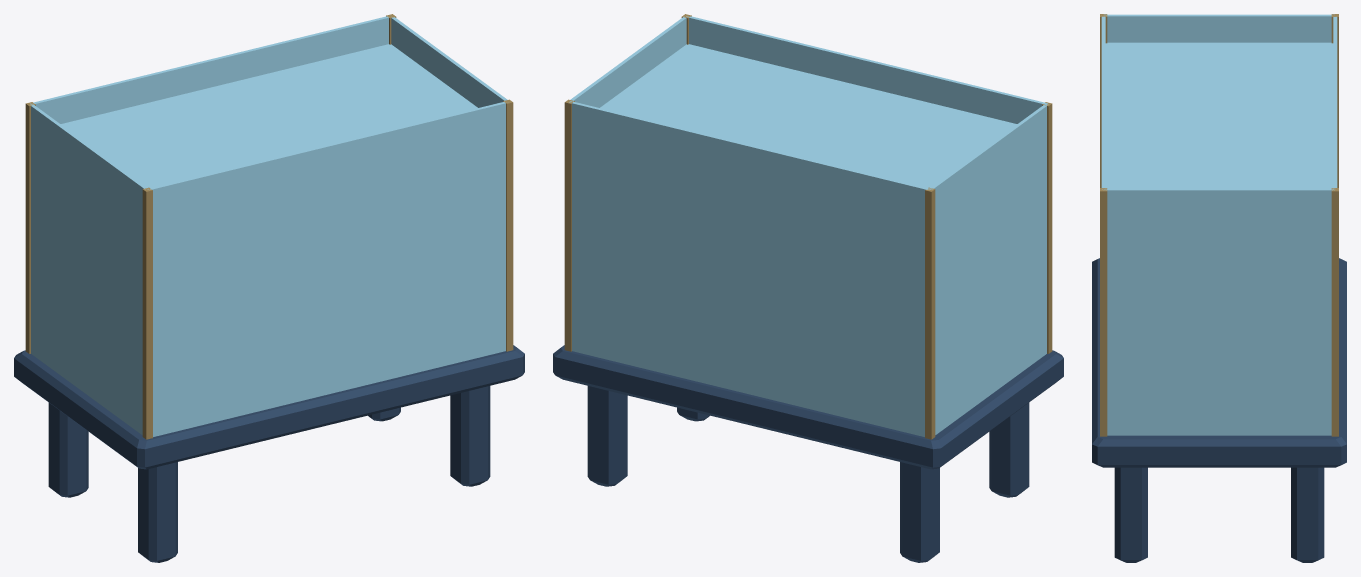
The model's file is v18_aquarium.glb.
3 renders of one model, left to right at view 1: azimuth 30°, elevation 25°; view 2: azimuth 150°, elevation 25°; view 3: azimuth 270°, elevation 25°, orthographic.
Visible parts, largest first — view 1: _MeshInstance3D_2622, _MeshInstance3D_2625, _MeshInstance3D_2623, _MeshInstance3D_2615, _MeshInstance3D_2621, _MeshInstance3D_2614, _MeshInstance3D_2612, _MeshInstance3D_2611, _MeshInstance3D_2624, _MeshInstance3D_2618, _MeshInstance3D_2620, _MeshInstance3D_2617; view 2: _MeshInstance3D_2621, _MeshInstance3D_2625, _MeshInstance3D_2623, _MeshInstance3D_2615, _MeshInstance3D_2622, _MeshInstance3D_2613, _MeshInstance3D_2611, _MeshInstance3D_2612, _MeshInstance3D_2624, _MeshInstance3D_2617, _MeshInstance3D_2619, _MeshInstance3D_2618; view 3: _MeshInstance3D_2624, _MeshInstance3D_2625, _MeshInstance3D_2615, _MeshInstance3D_2623, _MeshInstance3D_2613, _MeshInstance3D_2614, _MeshInstance3D_2619, _MeshInstance3D_2620, _MeshInstance3D_2622, _MeshInstance3D_2621, _MeshInstance3D_2617, _MeshInstance3D_2618.
Part boxes in pixels (x1=…): _MeshInstance3D_2622: x1=150, y1=101, x2=505, y2=436; _MeshInstance3D_2625: x1=61, y1=44, x2=477, y2=187; _MeshInstance3D_2623: x1=30, y1=104, x2=148, y2=434; _MeshInstance3D_2615: x1=14, y1=345, x2=524, y2=469; _MeshInstance3D_2621: x1=30, y1=16, x2=388, y2=123; _MeshInstance3D_2614: x1=450, y1=386, x2=490, y2=486; _MeshInstance3D_2612: x1=138, y1=462, x2=177, y2=562; _MeshInstance3D_2611: x1=48, y1=402, x2=88, y2=497; _MeshInstance3D_2624: x1=391, y1=17, x2=507, y2=107; _MeshInstance3D_2618: x1=142, y1=187, x2=152, y2=439; _MeshInstance3D_2620: x1=503, y1=99, x2=513, y2=351; _MeshInstance3D_2617: x1=25, y1=102, x2=35, y2=353; _MeshInstance3D_2621: x1=569, y1=101, x2=930, y2=436; _MeshInstance3D_2625: x1=600, y1=44, x2=1016, y2=187; _MeshInstance3D_2623: x1=930, y1=104, x2=1048, y2=434; _MeshInstance3D_2615: x1=553, y1=345, x2=1063, y2=469; _MeshInstance3D_2622: x1=686, y1=16, x2=1047, y2=123; _MeshInstance3D_2613: x1=587, y1=386, x2=627, y2=486; _MeshInstance3D_2611: x1=900, y1=462, x2=939, y2=562; _MeshInstance3D_2612: x1=989, y1=402, x2=1029, y2=497; _MeshInstance3D_2624: x1=570, y1=16, x2=686, y2=107; _MeshInstance3D_2617: x1=925, y1=187, x2=935, y2=439; _MeshInstance3D_2619: x1=564, y1=99, x2=574, y2=351; _MeshInstance3D_2618: x1=1042, y1=102, x2=1052, y2=353; _MeshInstance3D_2624: x1=1104, y1=188, x2=1334, y2=435; _MeshInstance3D_2625: x1=1105, y1=42, x2=1333, y2=188; _MeshInstance3D_2615: x1=1092, y1=258, x2=1346, y2=467; _MeshInstance3D_2623: x1=1104, y1=14, x2=1334, y2=42; _MeshInstance3D_2613: x1=1291, y1=467, x2=1324, y2=562; _MeshInstance3D_2614: x1=1114, y1=467, x2=1147, y2=562; _MeshInstance3D_2619: x1=1331, y1=188, x2=1338, y2=436; _MeshInstance3D_2620: x1=1100, y1=188, x2=1107, y2=436; _MeshInstance3D_2622: x1=1101, y1=16, x2=1105, y2=189; _MeshInstance3D_2621: x1=1333, y1=16, x2=1337, y2=187; _MeshInstance3D_2617: x1=1331, y1=14, x2=1338, y2=187; _MeshInstance3D_2618: x1=1100, y1=14, x2=1107, y2=187.
Size of the model in its own units: 1.21 by 1.15 by 0.6986.
